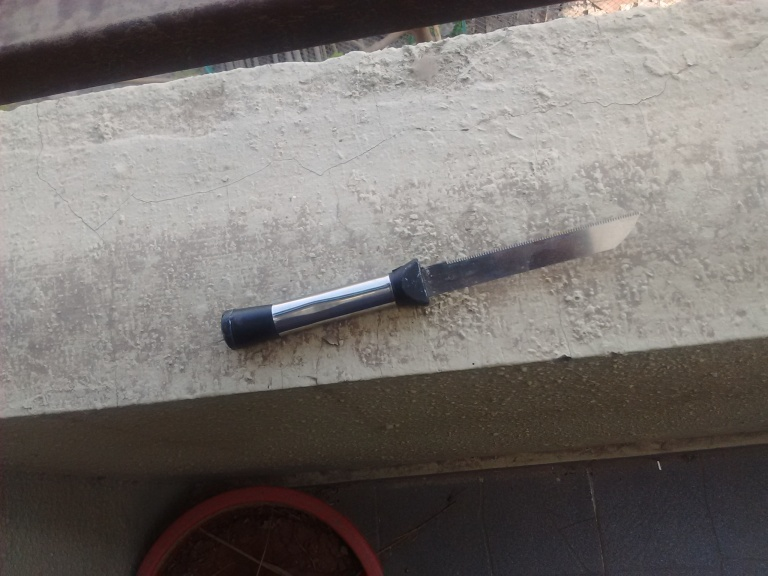knife: (218, 206, 641, 349)
